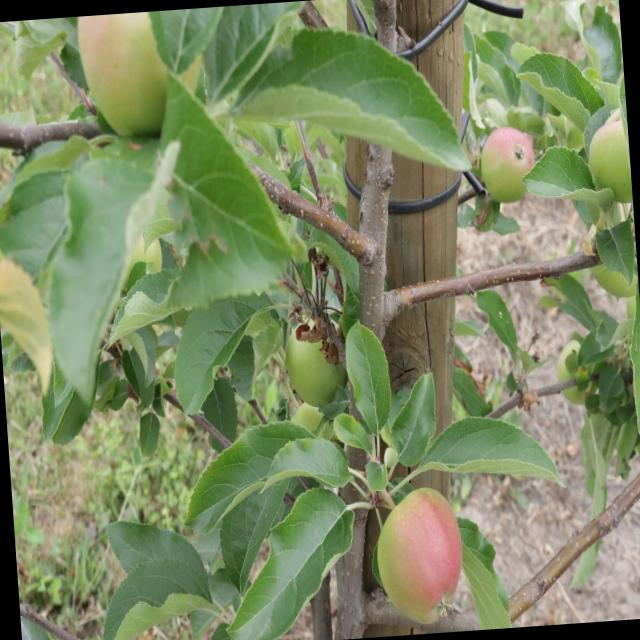-FireBlight-: (294, 294, 336, 364)
